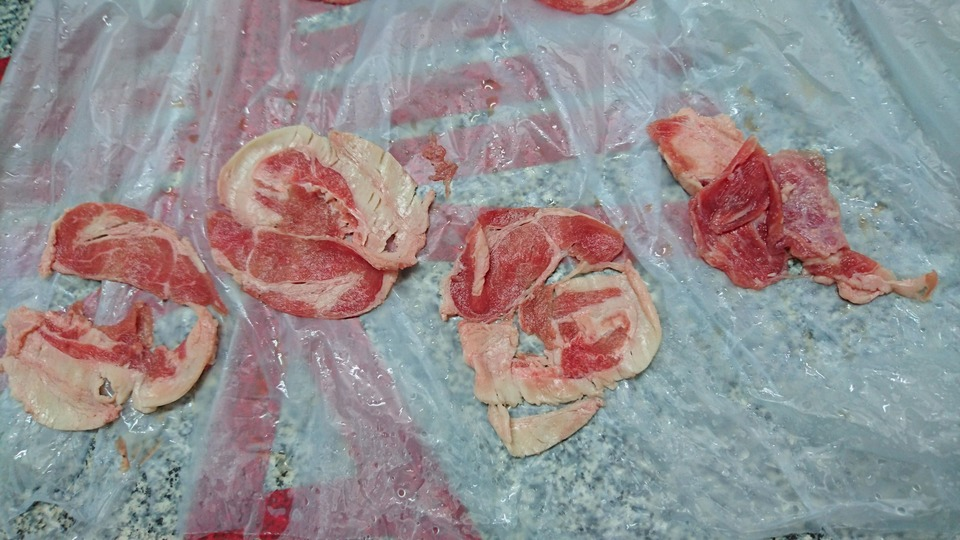restructured meat: (428, 189, 660, 469), (631, 103, 932, 304), (4, 196, 226, 433), (214, 120, 445, 317)
